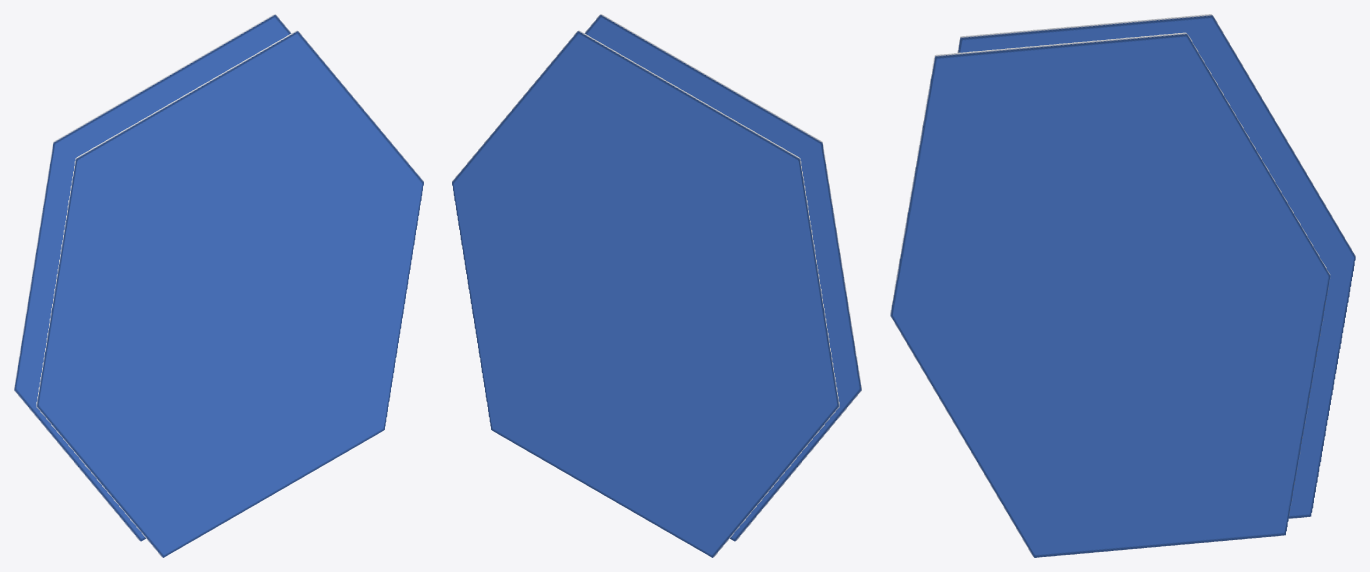
File: simple_model10.glb
The picture shows the model from 3 angles, left to right: view 1: azimuth 30°, elevation 25°; view 2: azimuth 150°, elevation 25°; view 3: azimuth 330°, elevation 25°; orthographic projection. The views are drawn at different scales.
Size of the model in its own units: 1 by 1.22 by 0.1.
2 materials, 2 textured.
